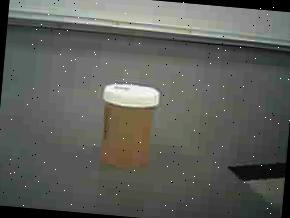Bottle B: (90, 78, 168, 176)
